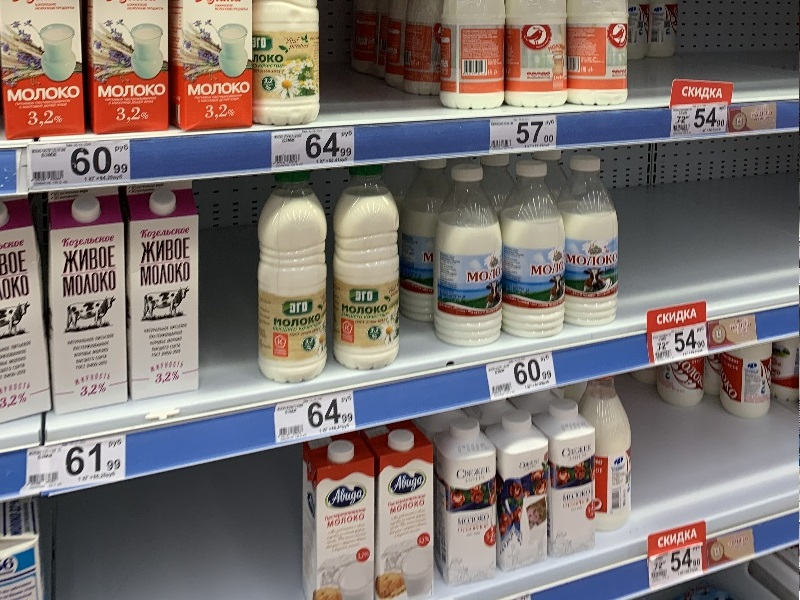milk: (40, 189, 136, 411), (116, 179, 209, 400), (243, 166, 334, 391), (327, 161, 410, 376), (430, 159, 510, 353), (492, 161, 571, 347), (434, 413, 505, 588), (551, 155, 624, 324), (489, 408, 556, 574), (542, 396, 597, 559)
